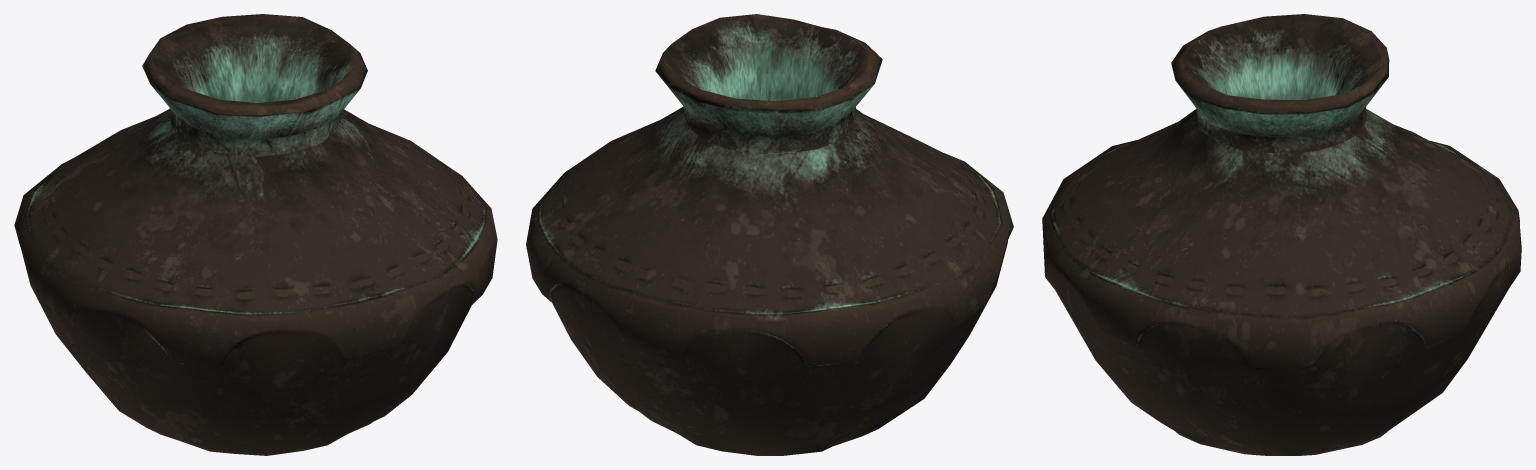
The model's file is nigerian_vase.glb.
The picture shows the model from 3 angles, left to right: view 1: azimuth 30°, elevation 25°; view 2: azimuth 150°, elevation 25°; view 3: azimuth 270°, elevation 25°; orthographic projection.
Parts seen in each view (by area): view 1: Object_2; view 2: Object_2; view 3: Object_2.
Part boxes in pixels (box(x1,y1,x2,y2)): Object_2: box(14, 14, 497, 455); Object_2: box(526, 14, 1013, 455); Object_2: box(1042, 14, 1521, 455).
Bounding box in the file's own units: 12.71 × 10.98 × 12.75.
Materials: 1 (1 with a texture image).
